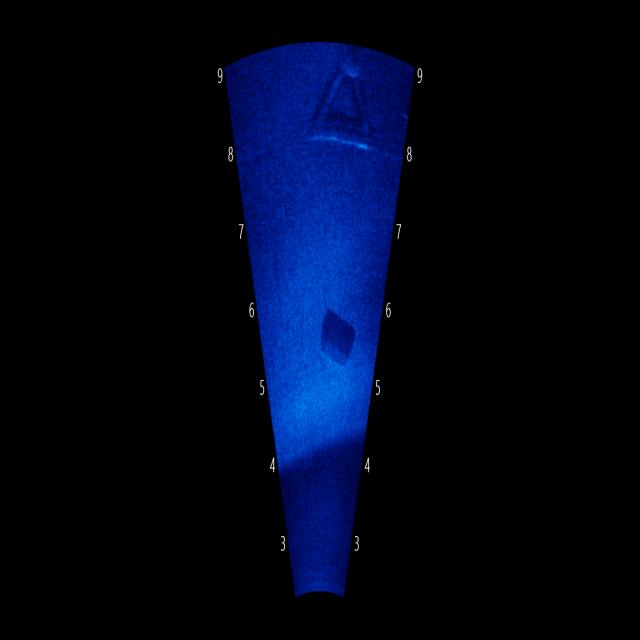square: (312, 287, 370, 403)
triangle: (310, 38, 382, 180)
